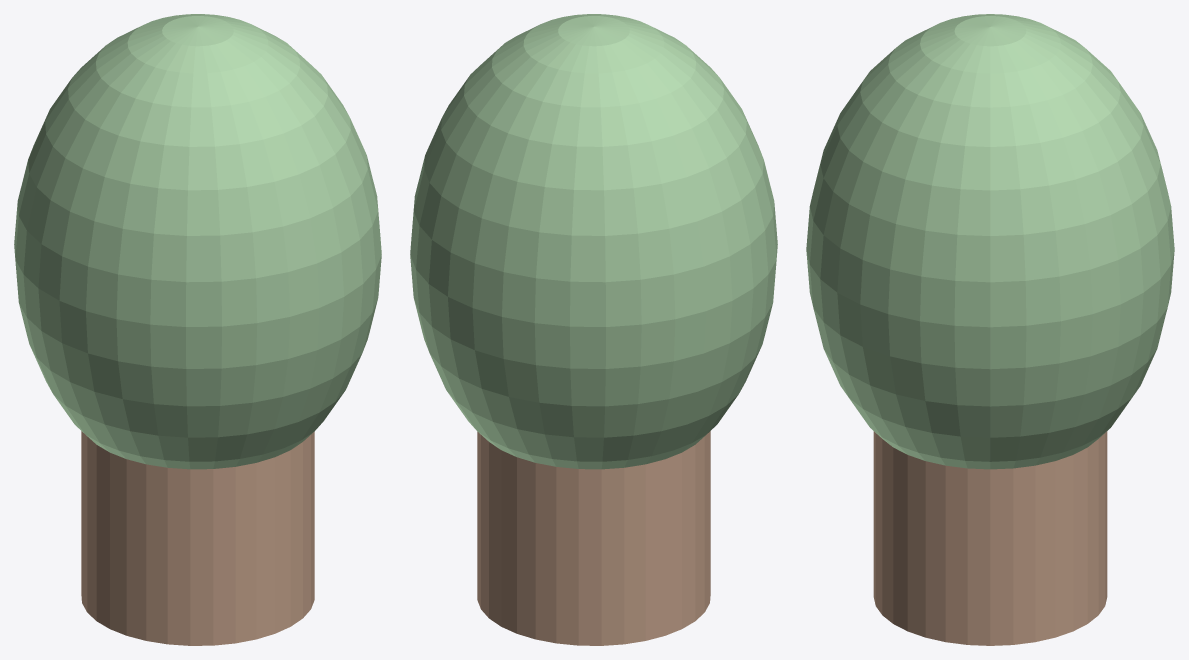
The model's file is plant.glb.
3 views of the same model, side by side, from view 1: azimuth 30°, elevation 25°; view 2: azimuth 150°, elevation 25°; view 3: azimuth 270°, elevation 25° (orthographic).
Parts seen in each view (by area): view 1: Plant; view 2: Plant; view 3: Plant.
Part boxes in pixels (x1,y1,x2,y2): Plant: [14, 14, 381, 645]; Plant: [410, 14, 777, 645]; Plant: [806, 14, 1174, 645].
Bounding box in the file's own units: 0.63 × 1.07 × 0.63.
